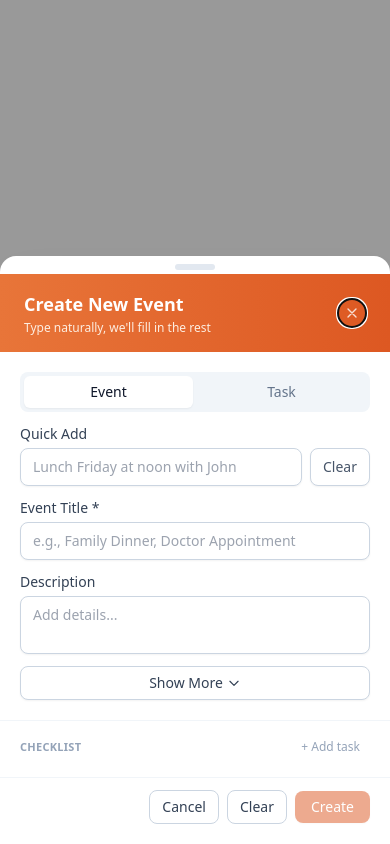
Scenario: EventFormModal - Date & Time Layout › should hide time inputs when all-day is checked
Click the button "Show More". click: (195, 683)
box: [20,666,370,700]
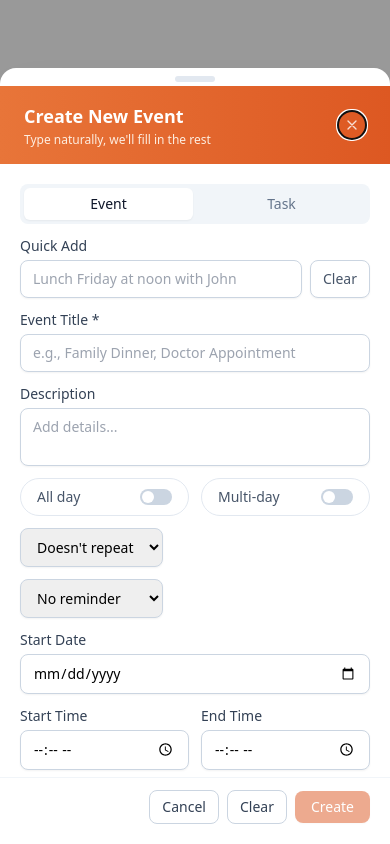
Click the button "All day". click: (104, 496)
box: [20,478,189,516]
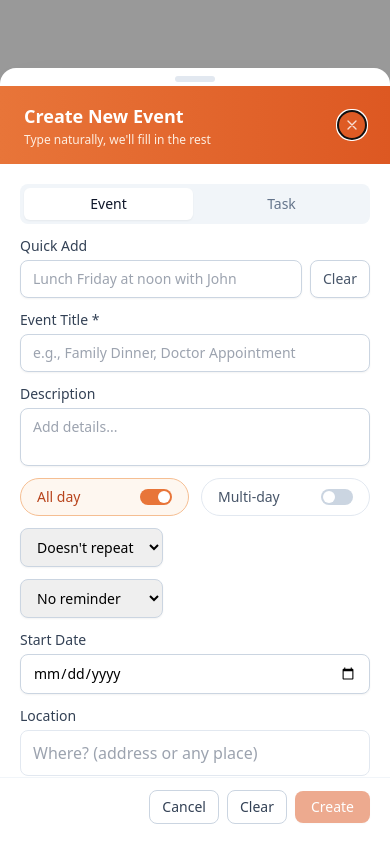
Now the label with id "start-time" is gone
Now the label with id "end-time" is gone
